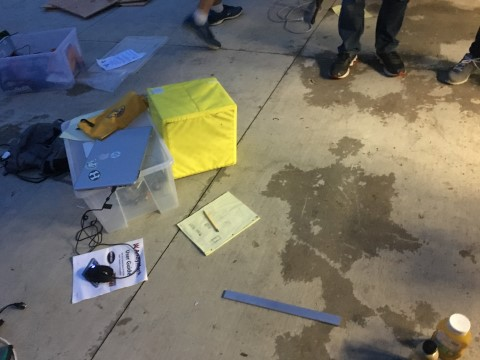cube: (146, 76, 238, 180)
